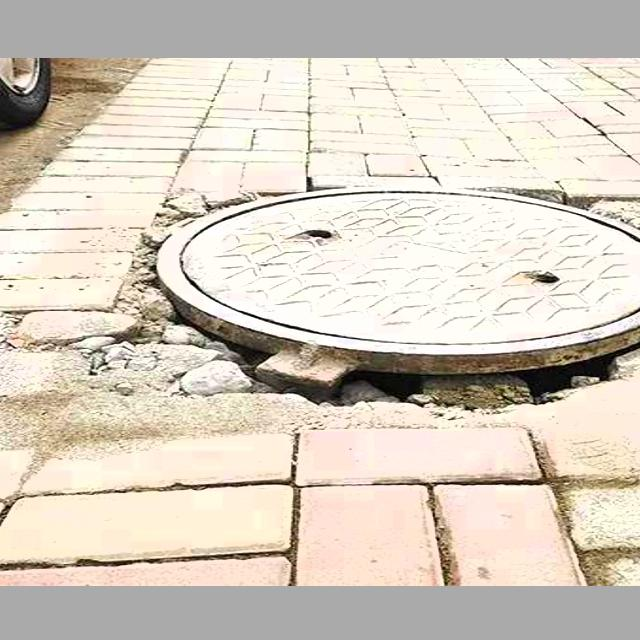circle: (17, 186, 640, 427)
